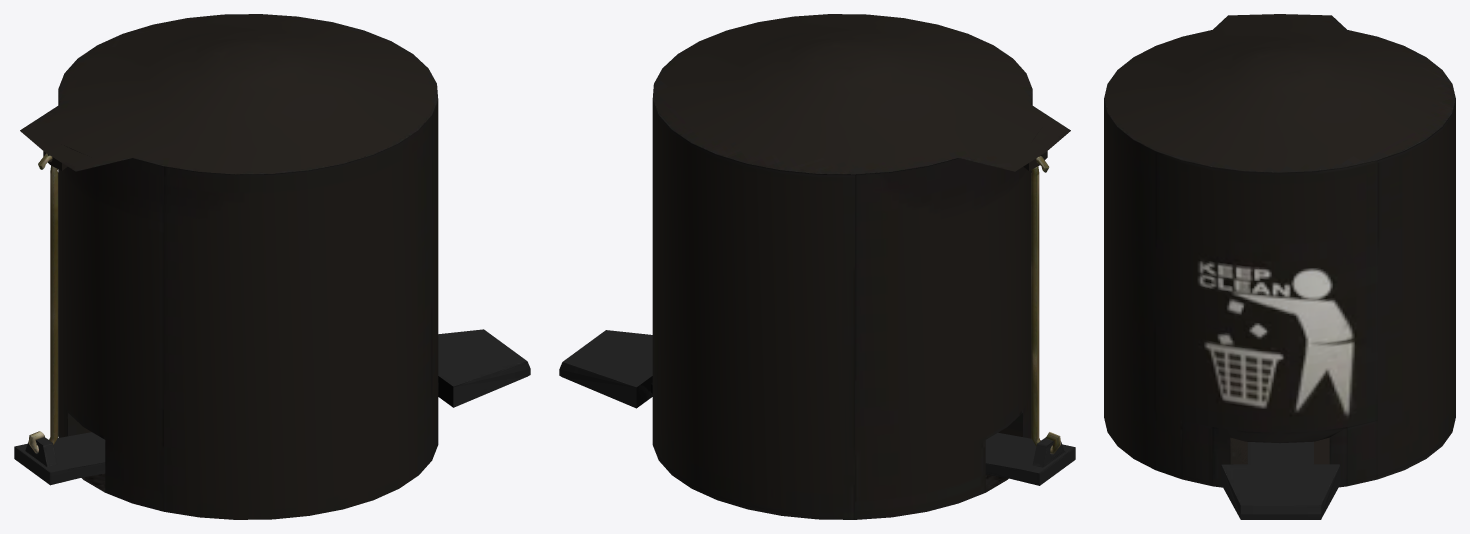
The model's file is trash_bin.glb.
3 views of the same model, side by side, from view 1: azimuth 30°, elevation 25°; view 2: azimuth 150°, elevation 25°; view 3: azimuth 270°, elevation 25° (orthographic). The views are drawn at different scales.
Parts seen in each view (by area): view 1: TrashBin_0, TrashBin_3, TrashBin_2, TrashBin_1; view 2: TrashBin_0, TrashBin_3, TrashBin_2, TrashBin_1; view 3: TrashBin_0, TrashBin_3, TrashBin_2.
Boxes of the visible parts, left/top/right/bottom form: TrashBin_0: left=58, top=91, right=438, bottom=519; TrashBin_3: left=20, top=14, right=438, bottom=174; TrashBin_2: left=14, top=329, right=530, bottom=485; TrashBin_1: left=28, top=153, right=58, bottom=453; TrashBin_0: left=652, top=90, right=1032, bottom=519; TrashBin_3: left=652, top=14, right=1070, bottom=174; TrashBin_2: left=559, top=330, right=1075, bottom=485; TrashBin_1: left=1031, top=155, right=1060, bottom=454; TrashBin_0: left=1104, top=99, right=1455, bottom=487; TrashBin_3: left=1104, top=14, right=1455, bottom=172; TrashBin_2: left=1221, top=441, right=1340, bottom=519.
Bounding box in the file's own units: 0.6955 × 0.5301 × 0.4781.
4 materials, 4 textured.
